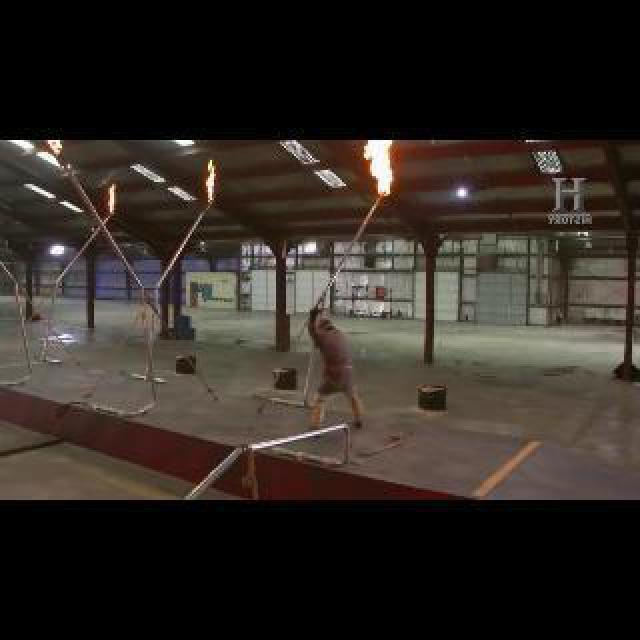Fire: (358, 142, 402, 194), (194, 160, 226, 202), (100, 186, 130, 216)
